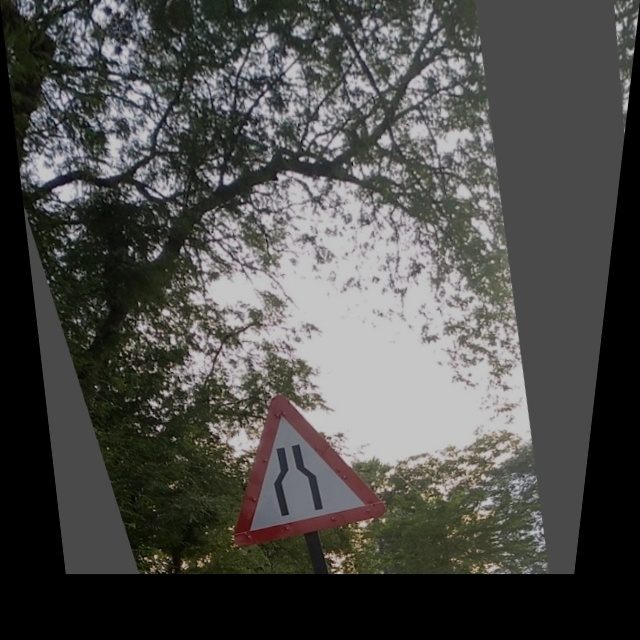Narrow_Road_Ahead: (199, 376, 393, 545)
